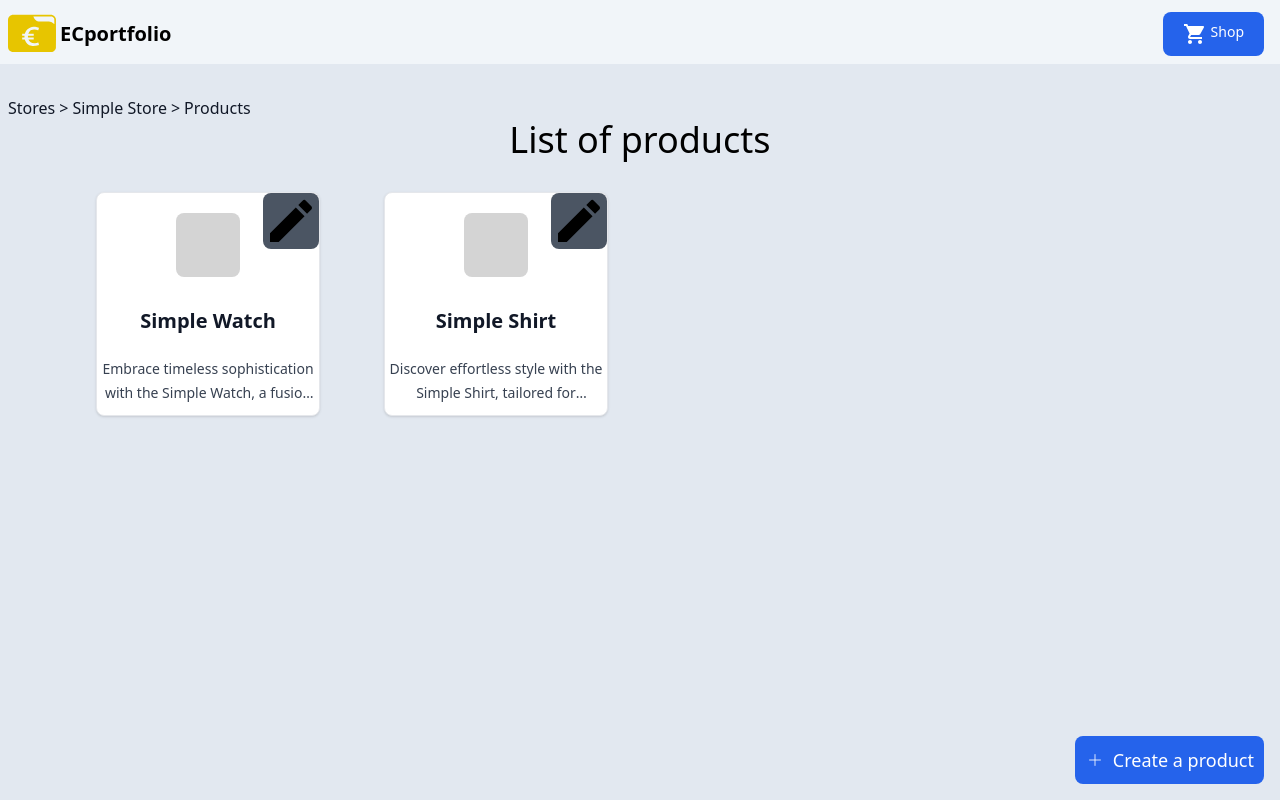
Test: Navigation bar test › In Product list to store list
The width and height of the screenshot is (1280, 800).
Click the text with id "NavStoresTitle".
click(32, 108)  # box x1=8 y1=96 x2=55 y2=120
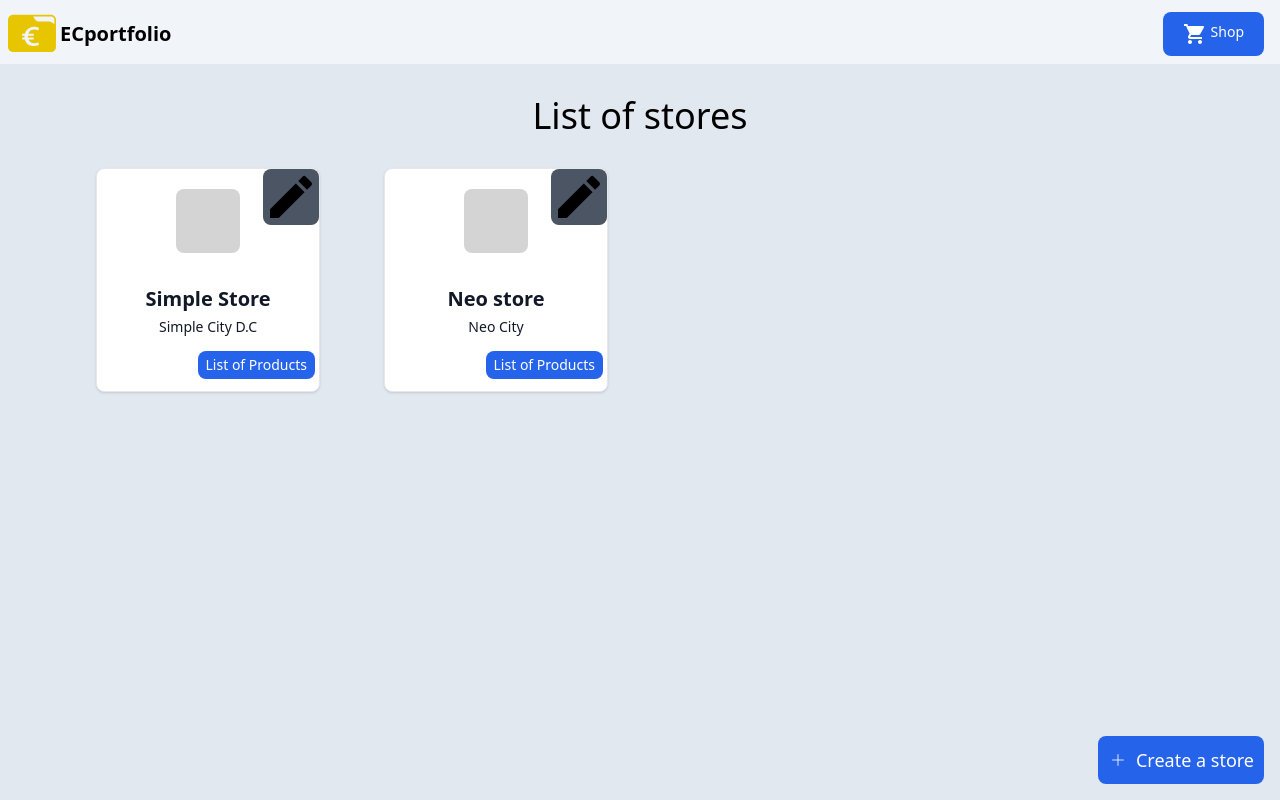
expect the text "List of stores" is shown: met, box x1=532 y1=91 x2=748 y2=140
